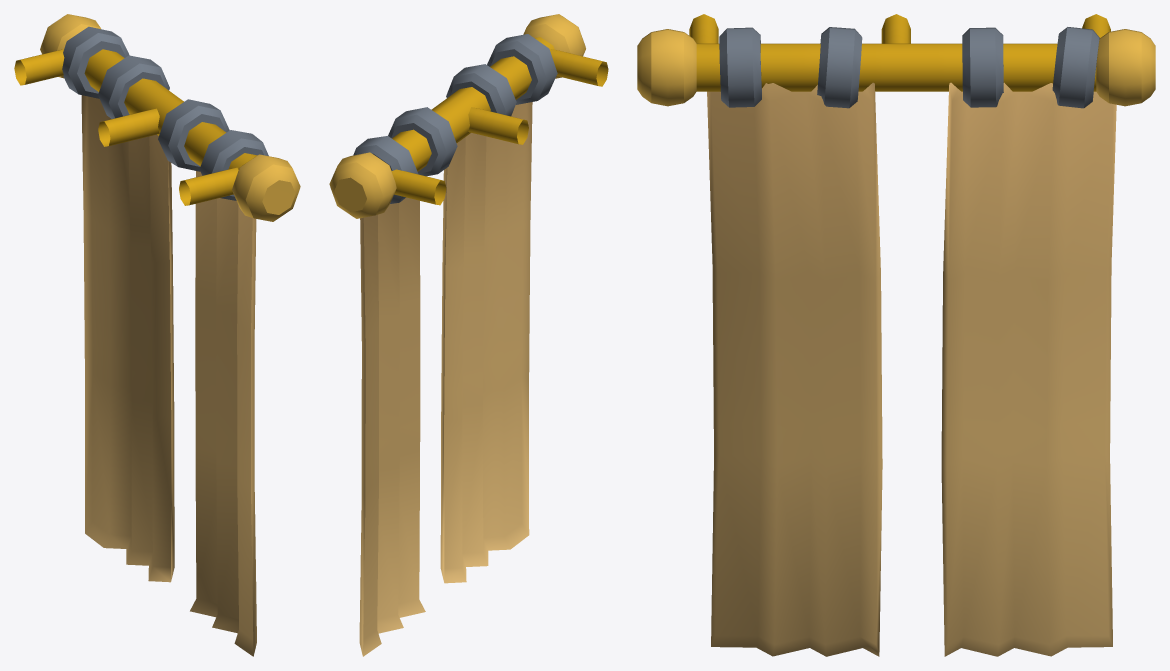
The model's file is Curtains_Short_2_A_L.glb.
3 views of the same model, side by side, from view 1: azimuth 30°, elevation 25°; view 2: azimuth 150°, elevation 25°; view 3: azimuth 270°, elevation 25° (orthographic). The views are drawn at different scales.
Parts seen in each view (by area): view 1: Curtains_Short_2_A_L; view 2: Curtains_Short_2_A_L; view 3: Curtains_Short_2_A_L.
Part boxes in pixels (x1,y1,x2,y2): Curtains_Short_2_A_L: (14, 14, 300, 656); Curtains_Short_2_A_L: (329, 14, 608, 656); Curtains_Short_2_A_L: (637, 14, 1155, 656).
Size of the model in its own units: 0.2275 by 1.16 by 0.8807.
2 materials, 2 textured.
